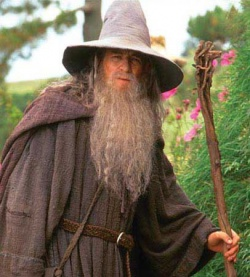gandalf grey: (2, 13, 217, 262)
